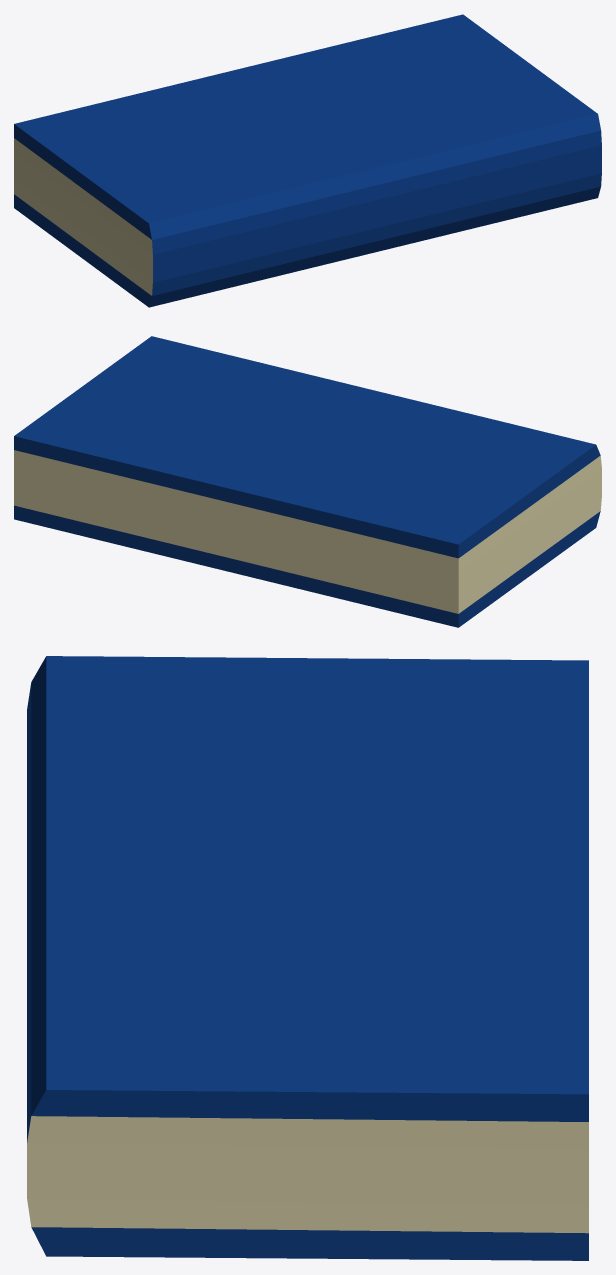
The model's file is Book.fbx.
3 renders of one model, top to bottom at view 1: azimuth 30°, elevation 25°; view 2: azimuth 150°, elevation 25°; view 3: azimuth 270°, elevation 25°, orthographic. The views are drawn at different scales.
Parts seen in each view (by area): view 1: Cube; view 2: Cube; view 3: Cube.
Boxes of the visible parts, bbox=[...] form: Cube: bbox=[14, 14, 601, 307]; Cube: bbox=[14, 336, 601, 627]; Cube: bbox=[27, 656, 588, 1260].
Bounding box in the file's own units: 201 × 36.33 × 109.
